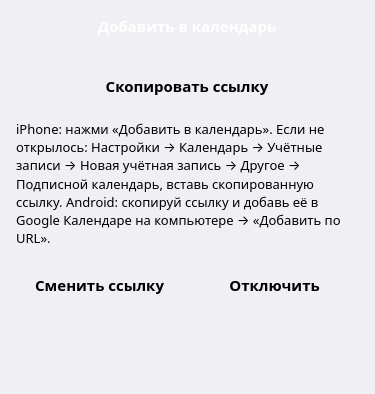
Test case: раздел «Календарь» › ошибка отключения рисуется рядом с кнопкой, ссылка остаётся рабочей
The image size is (375, 394).
Click the button "Отключить". click: click(274, 285)
box: 191,263 -> 358,307
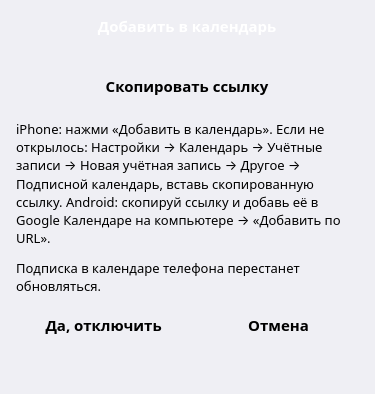
Click the button "Да, отключить". click: click(104, 325)
box: 16,303 -> 191,347
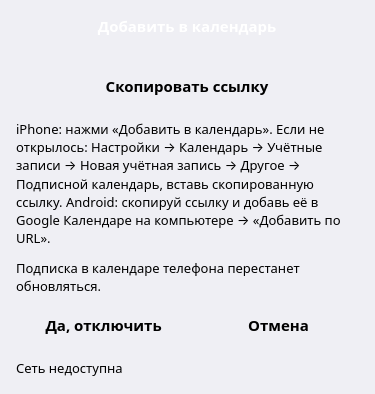
Expected: the text "Сеть недоступна" is shown, 16,359 -> 123,377
